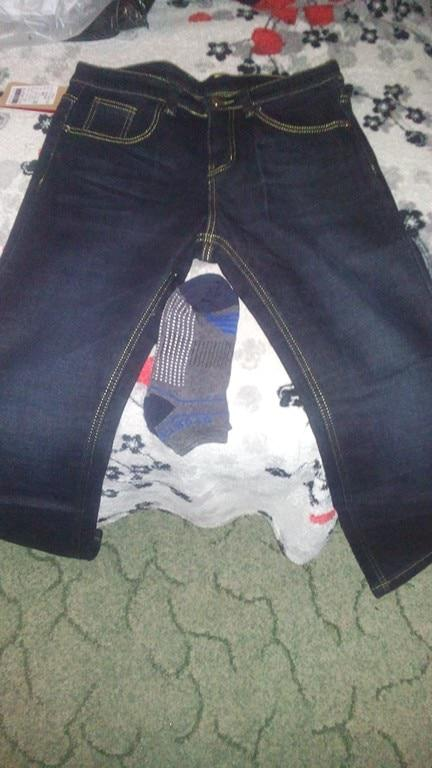jeans: (17, 69, 432, 583)
